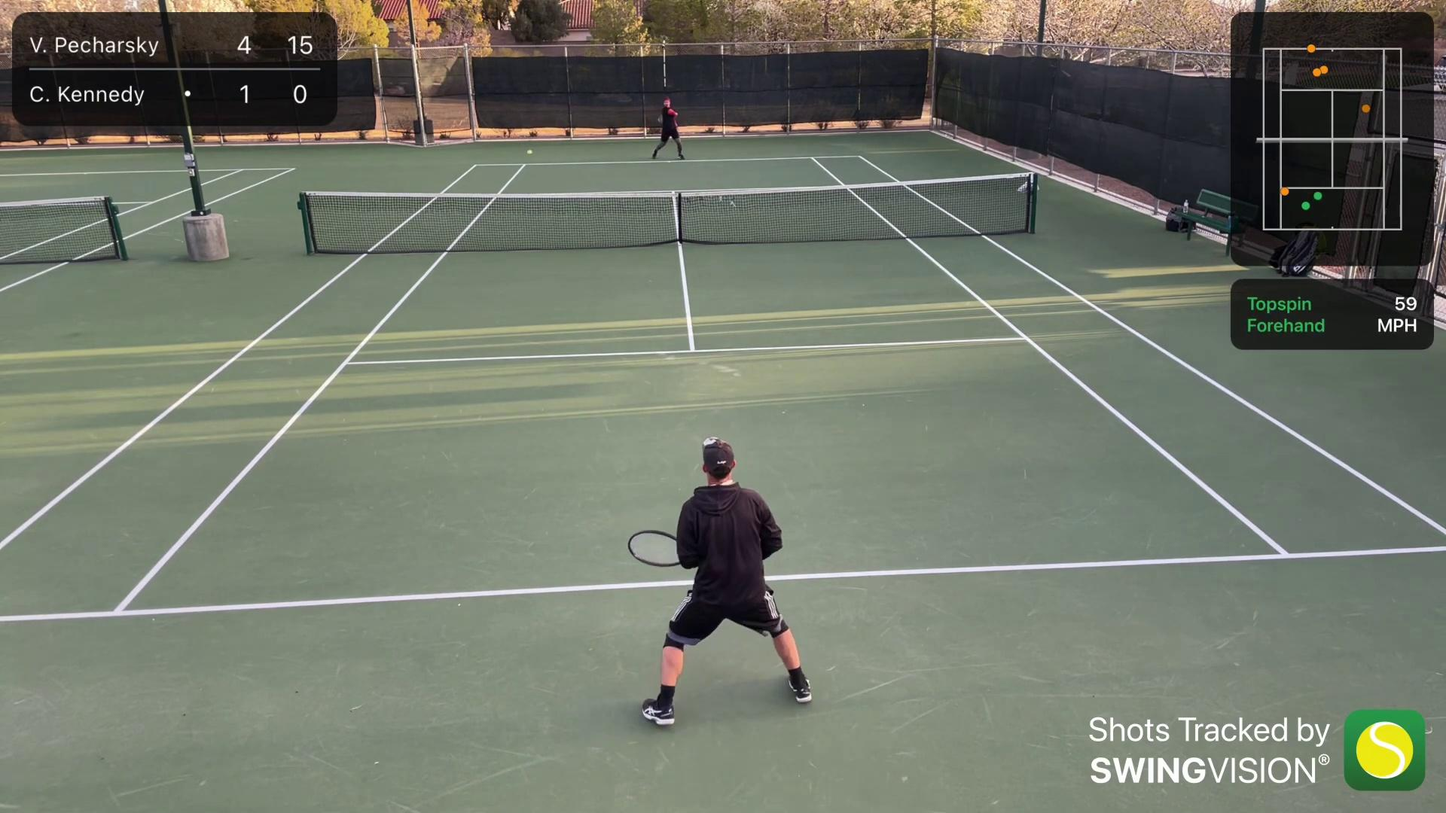ball: (524, 148, 534, 157)
